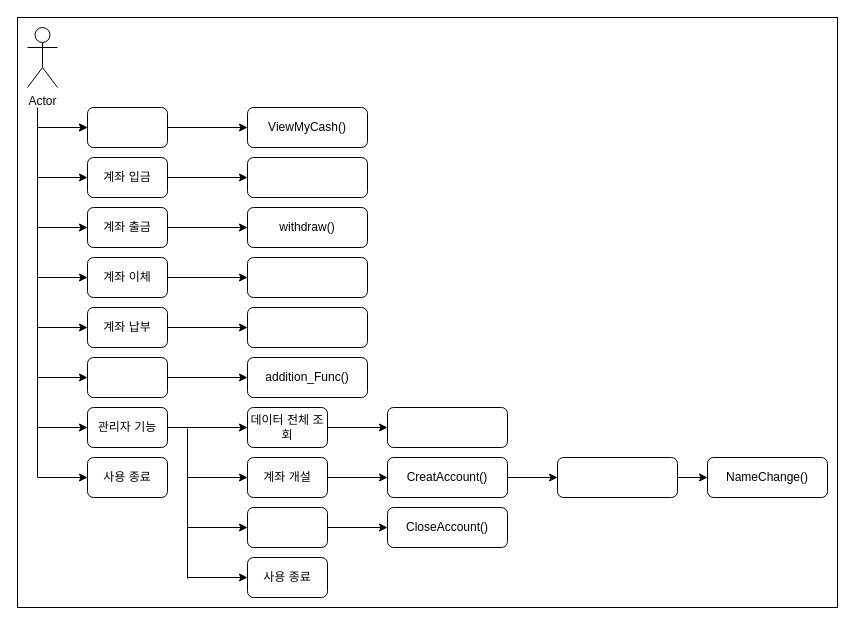
The diagram is 855 pixels wide and 625 high, and some of its shapes have lost their labels. The centre of each missing label's shape, as x and y in pixels:
"deposit()" belongs at point 307,177.
"MergeAccount()" belongs at point 617,477.
"pay_Func()" belongs at point 307,327.
"remit()" belongs at point 307,277.
"ViewAccount()" belongs at point 447,427.
"계좌 조회" belongs at point 127,127.
"계좌 해지" belongs at point 287,527.
"부가 서비스" belongs at point 127,377.
